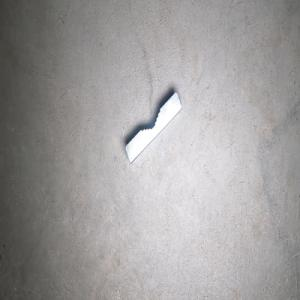ClampPart: (124, 90, 182, 164)
